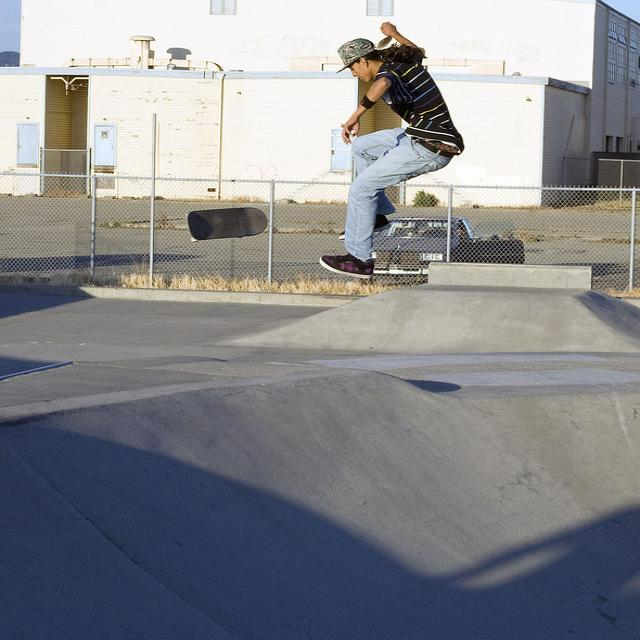Vehicle: (374, 218, 526, 276)
